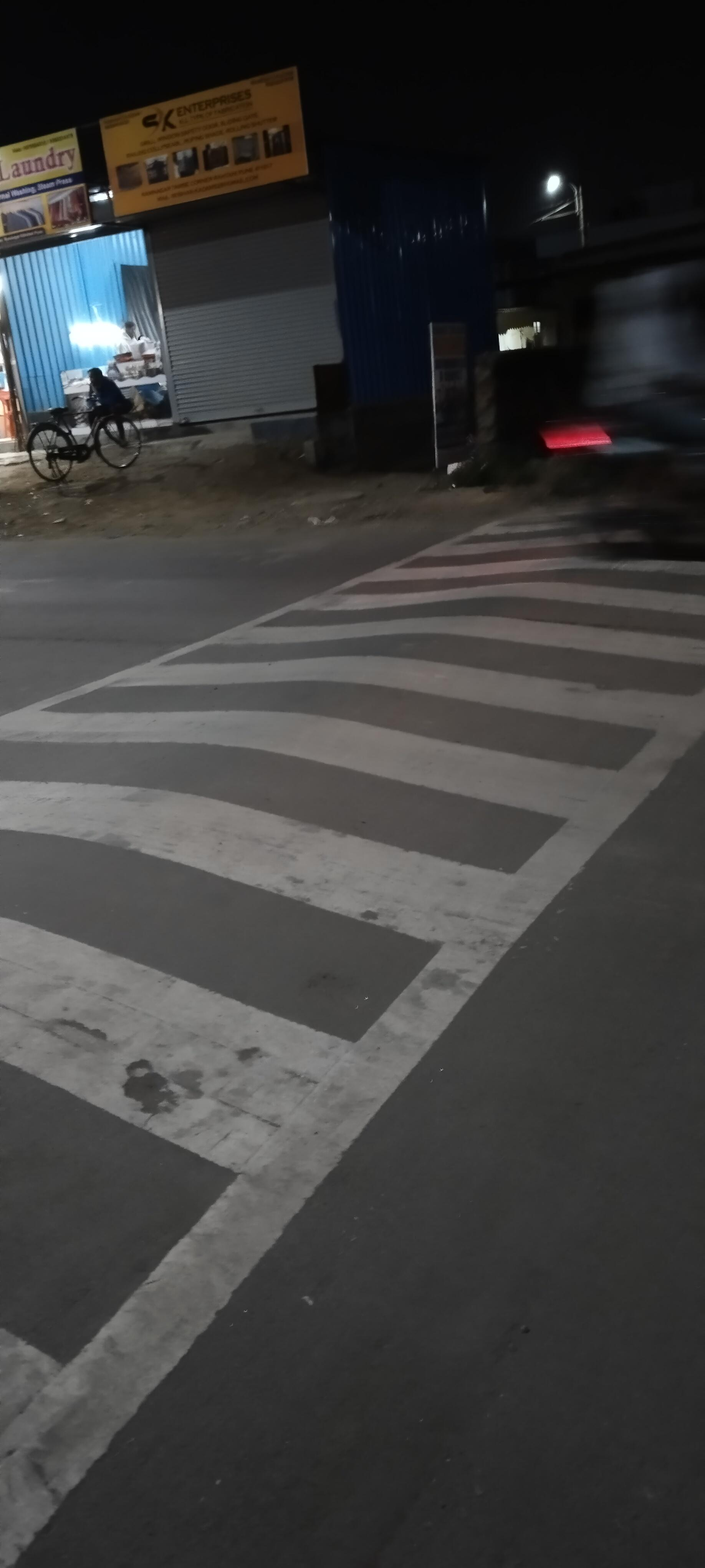crosswalk: (0, 511, 705, 1568)
